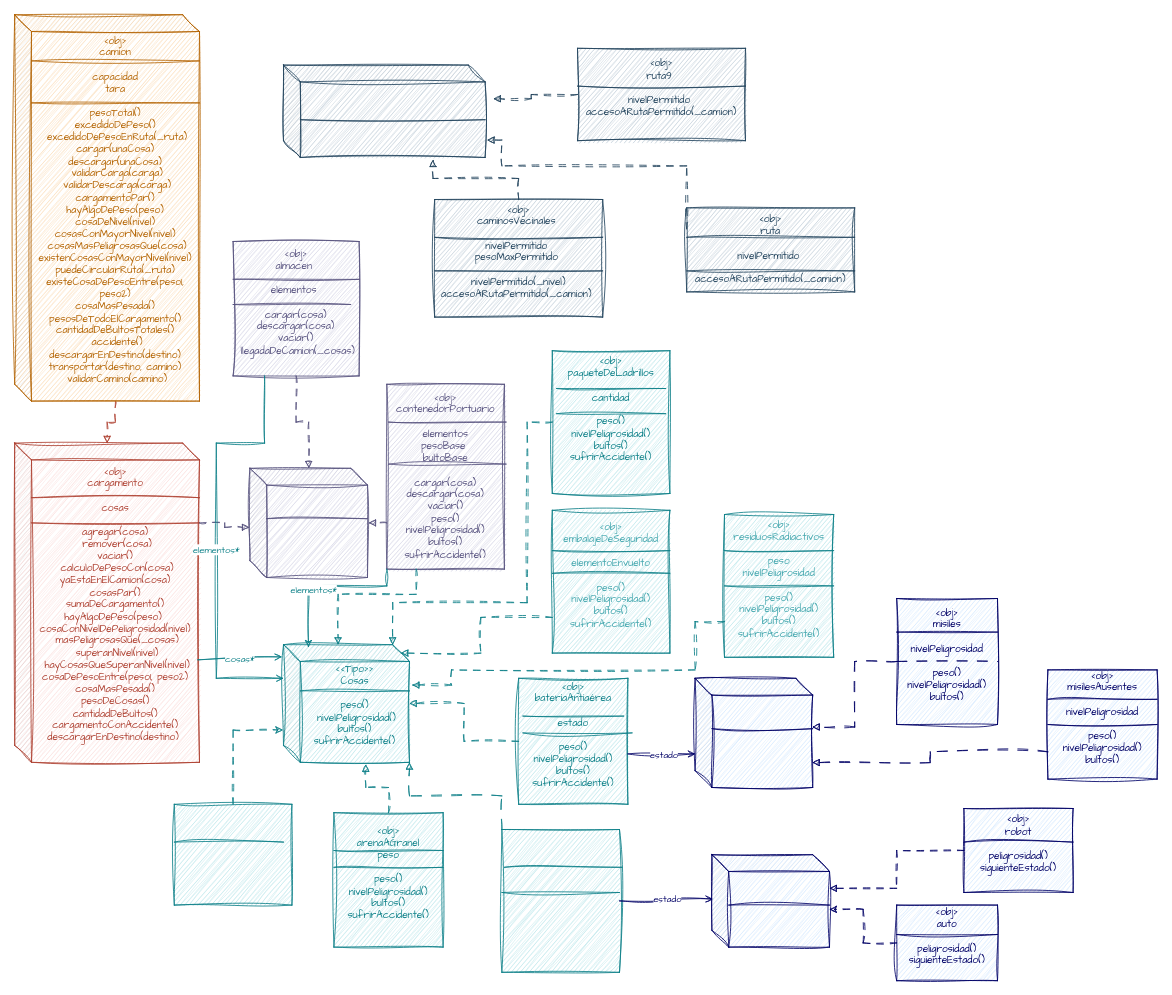
This 1172x995 diagram has some shape labels left out. The shapes that lost their labels are listed below. From the top down, each one's box as (x1, y1, x2, y2) in pixels, then its label:
(283, 64, 485, 158): <<Tipo>> Ruta accesoARutaPermitido(_camion)
(249, 467, 368, 578): <<Tipo>> Almacenaje cargar(cosa) descargar(cosa) vaciar()
(694, 677, 813, 788): <<Tipo>> EstadoBateria peso() nivelPeligrosidad() bultos()
(173, 803, 292, 905): <obj> knightRider peso() nivelPeligrosidad() bultos() sufrirAccidente()
(501, 829, 620, 972): <obj> bumblebee estado peso() nivelPeligrosidad() bultos() sufrirAccidente()
(711, 854, 830, 947): <<Tipo>> EstadoBumblebee peligrosidad() siguienteEstado()
